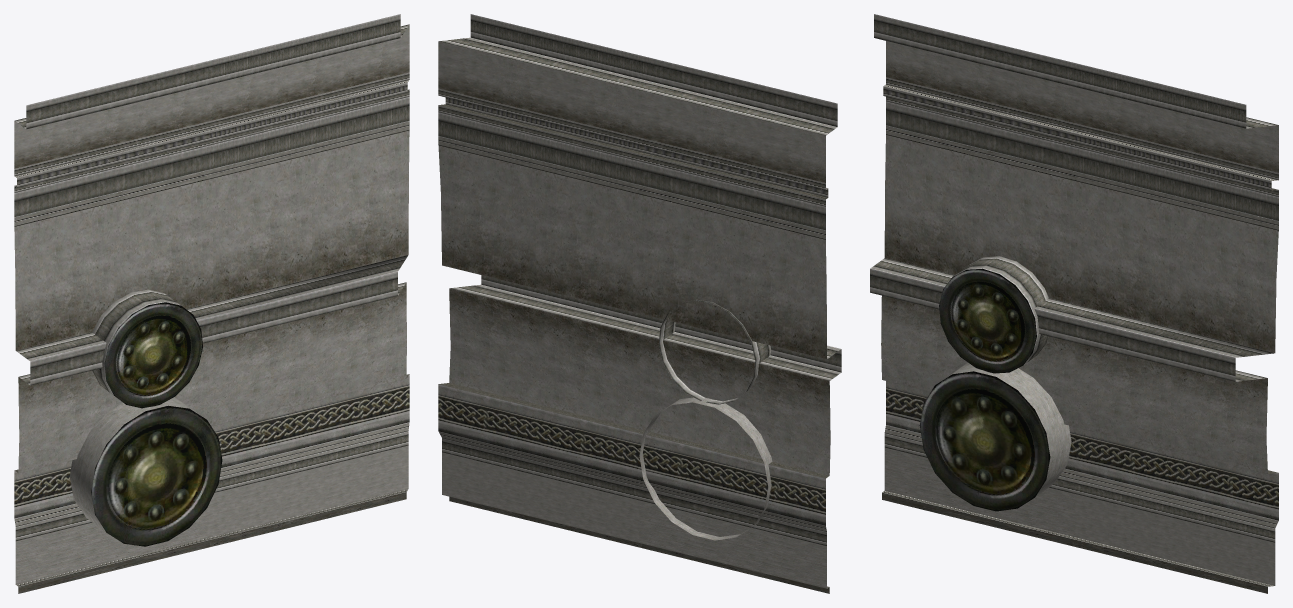
The model's file is DWARF_PALACE_GEAR_ROOM_WALL03A.fbx.
3 views of the same model, side by side, from view 1: azimuth 30°, elevation 25°; view 2: azimuth 150°, elevation 25°; view 3: azimuth 330°, elevation 25° (orthographic). The views are drawn at different scales.
Parts seen in each view (by area): view 1: DWARF_PALACE_GEAR_ROOM_WALL03A; view 2: DWARF_PALACE_GEAR_ROOM_WALL03A; view 3: DWARF_PALACE_GEAR_ROOM_WALL03A.
Boxes of the visible parts, box(x1,y1,x2,y2) form: DWARF_PALACE_GEAR_ROOM_WALL03A: box(14, 14, 409, 593); DWARF_PALACE_GEAR_ROOM_WALL03A: box(438, 14, 841, 593); DWARF_PALACE_GEAR_ROOM_WALL03A: box(870, 14, 1278, 593).
Size of the model in its own units: 171449 by 205000 by 18662.
8 materials, 8 textured.
